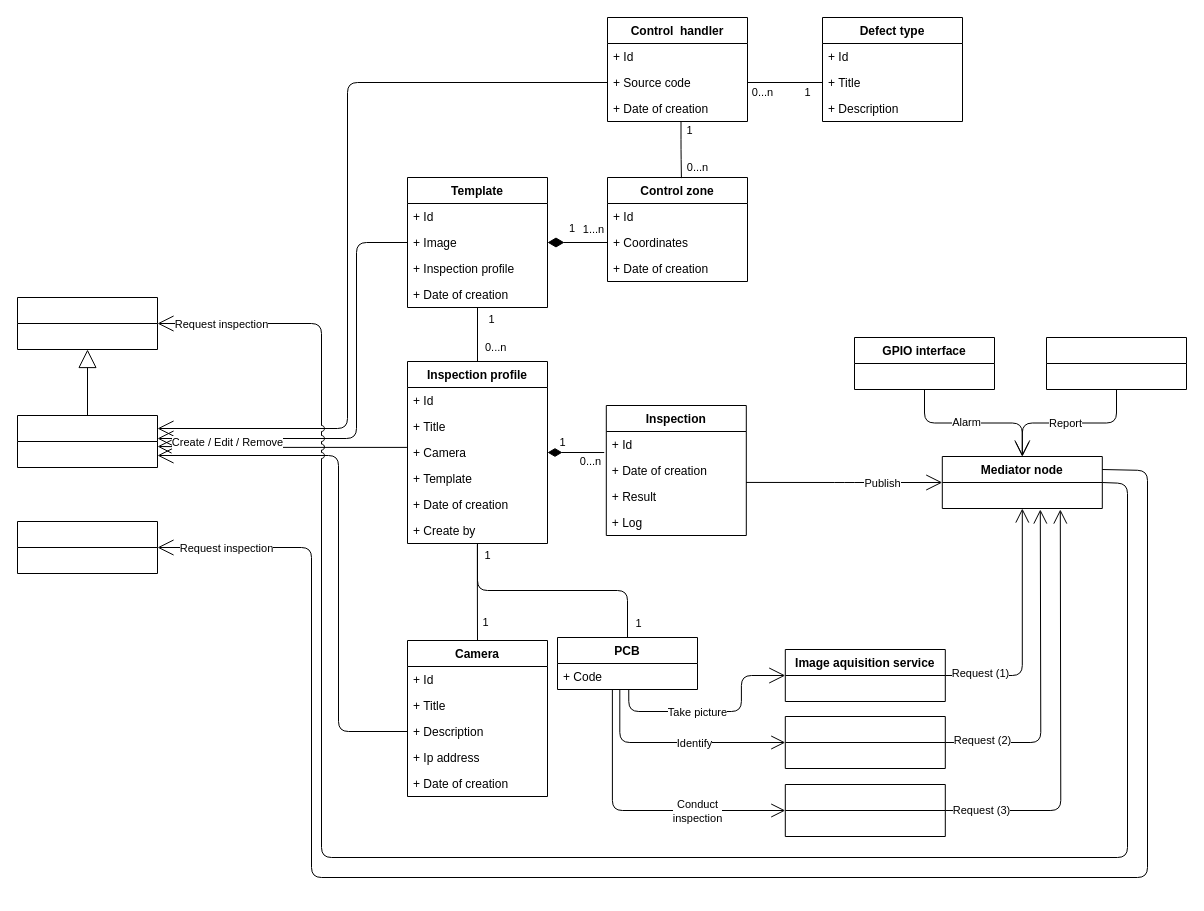
Image size: 1204x911. Some labels were removed from this diagram. The shapes that lost their labels are listed below. From the top down, each one's centre as x and y in pixels, then its label:
point (87, 323): Operator
point (1116, 363): Web interface
point (87, 441): Administrator
point (87, 547): Exteral system
point (864, 742): Identification service
point (864, 810): Inspection service
